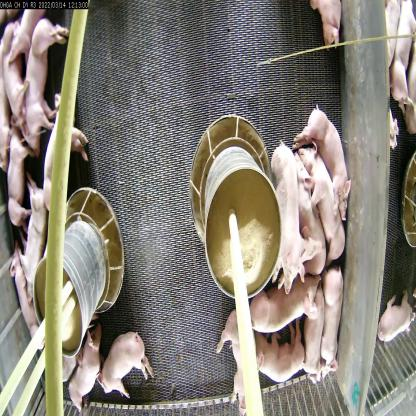Pig: (296, 102, 358, 217), (33, 95, 92, 214), (24, 10, 71, 141), (296, 146, 346, 268), (263, 144, 304, 289), (239, 316, 314, 393), (283, 135, 323, 279), (248, 268, 316, 341), (107, 330, 168, 406), (218, 301, 257, 409), (312, 264, 348, 373), (0, 109, 32, 229), (8, 252, 40, 359), (69, 324, 103, 415), (298, 284, 324, 390), (18, 177, 44, 279), (1, 32, 26, 110)
